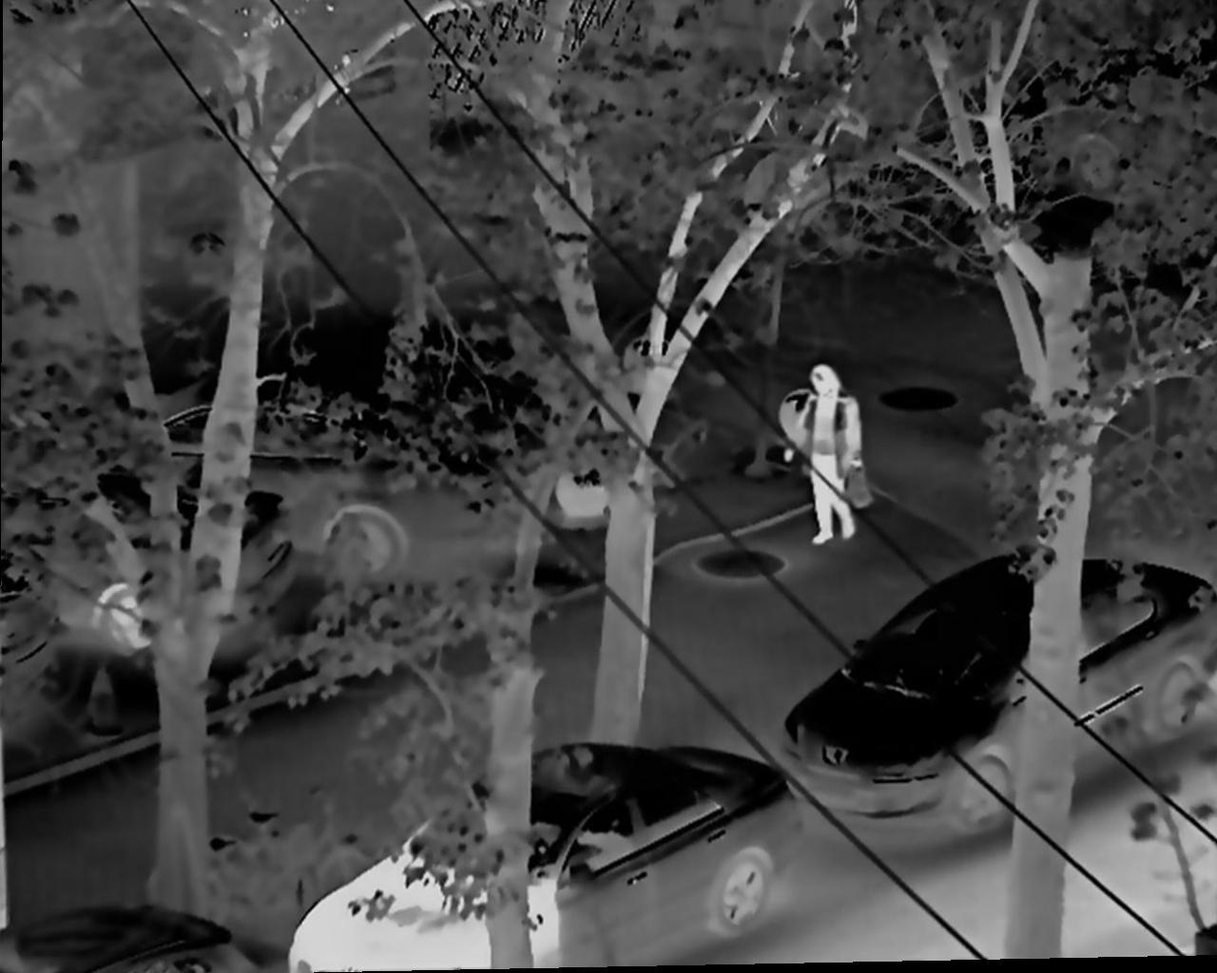person: (786, 361, 877, 546)
